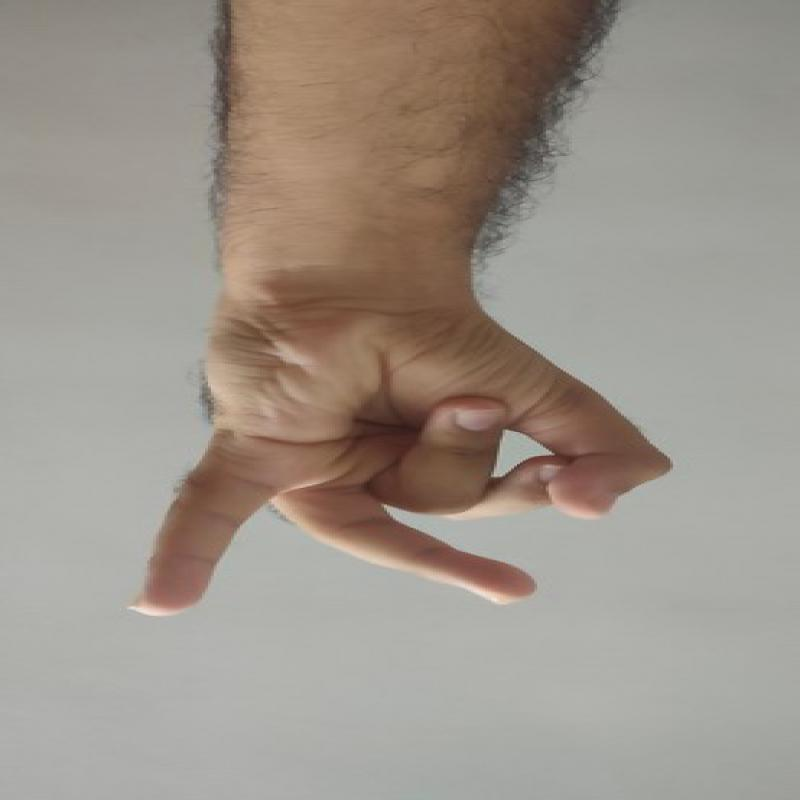Katakam: (117, 282, 685, 646)
